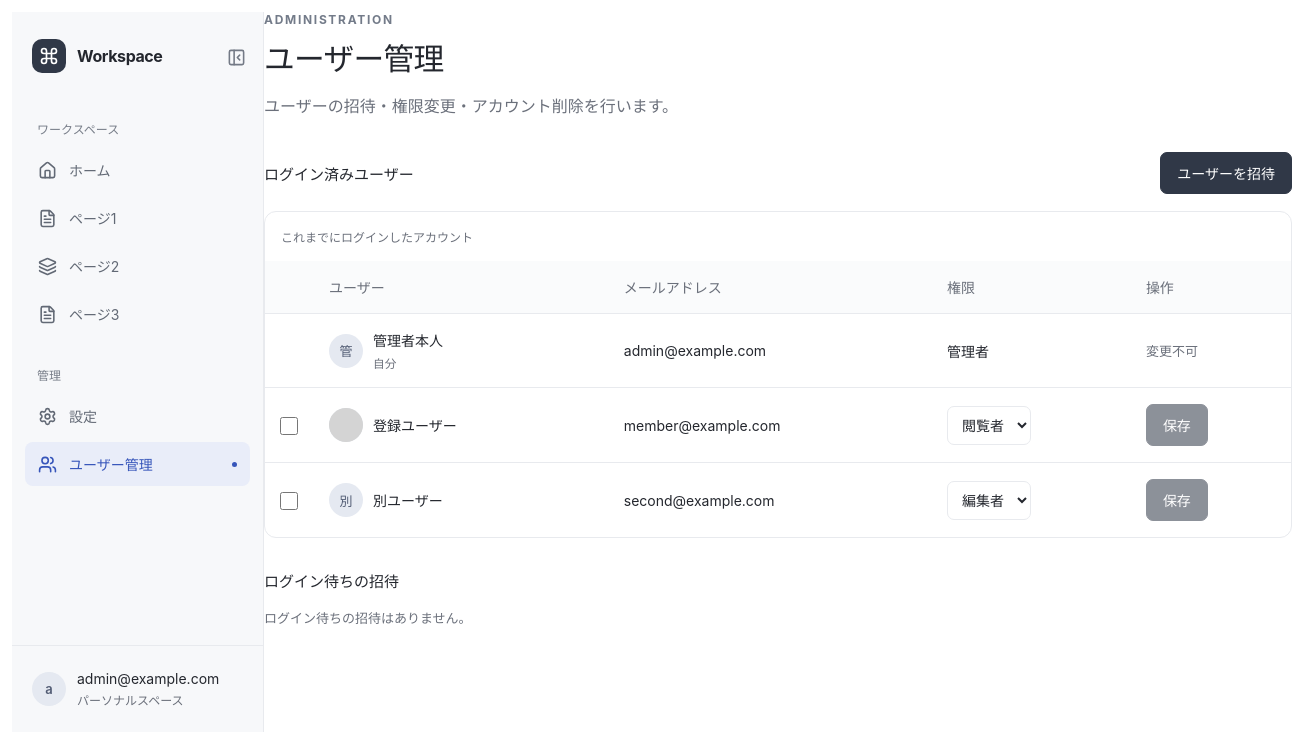
it: 管理者専用ユーザー管理 › 左端のチェックで複数選択し、表の外のボタンから一括削除できる
expect the button "選択したアカウントを削除" is not shown: met
Click the checkbox named "member@example.comを選択" at (289, 426), box 280,417 -> 298,435
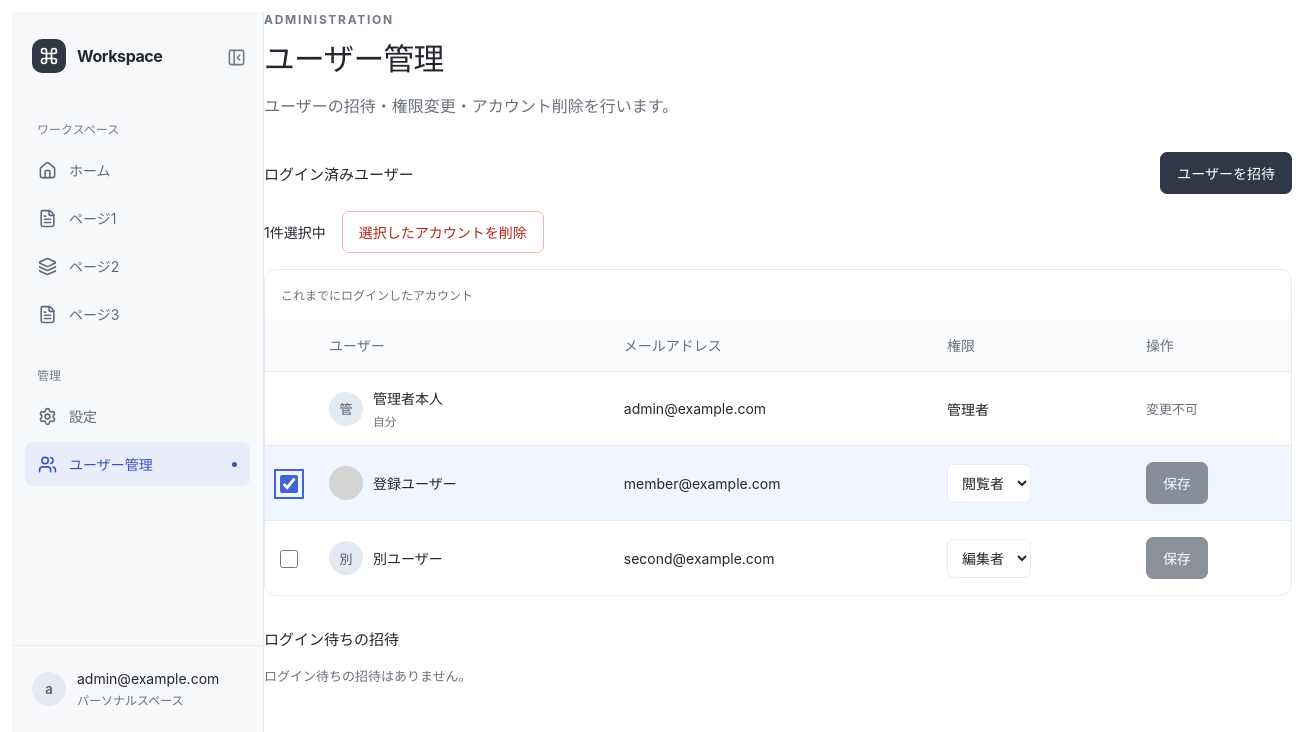
Click the checkbox named "second@example.comを選択" at (289, 559), box 280,550 -> 298,568
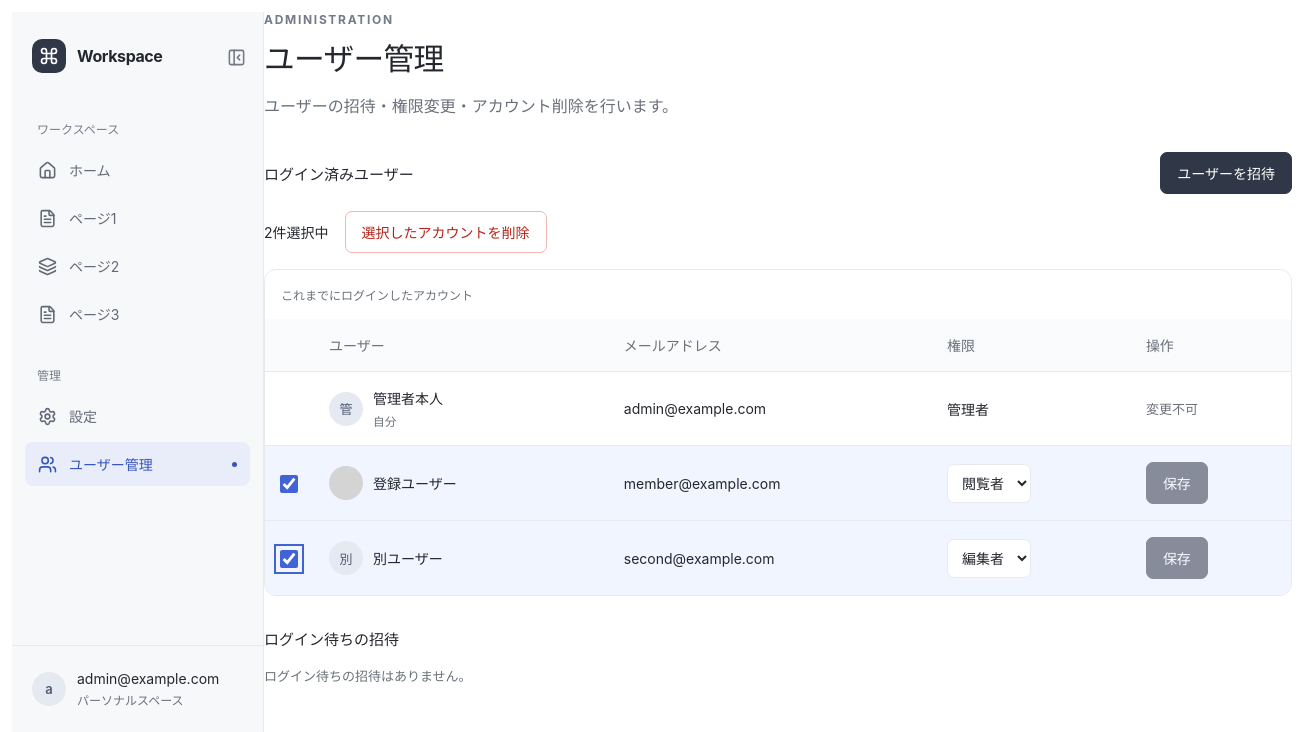
expect the text "2件選択中" is shown: met, box 264,222 -> 328,242
Click the button "選択したアカウントを削除" at (446, 232), box 344,211 -> 546,253
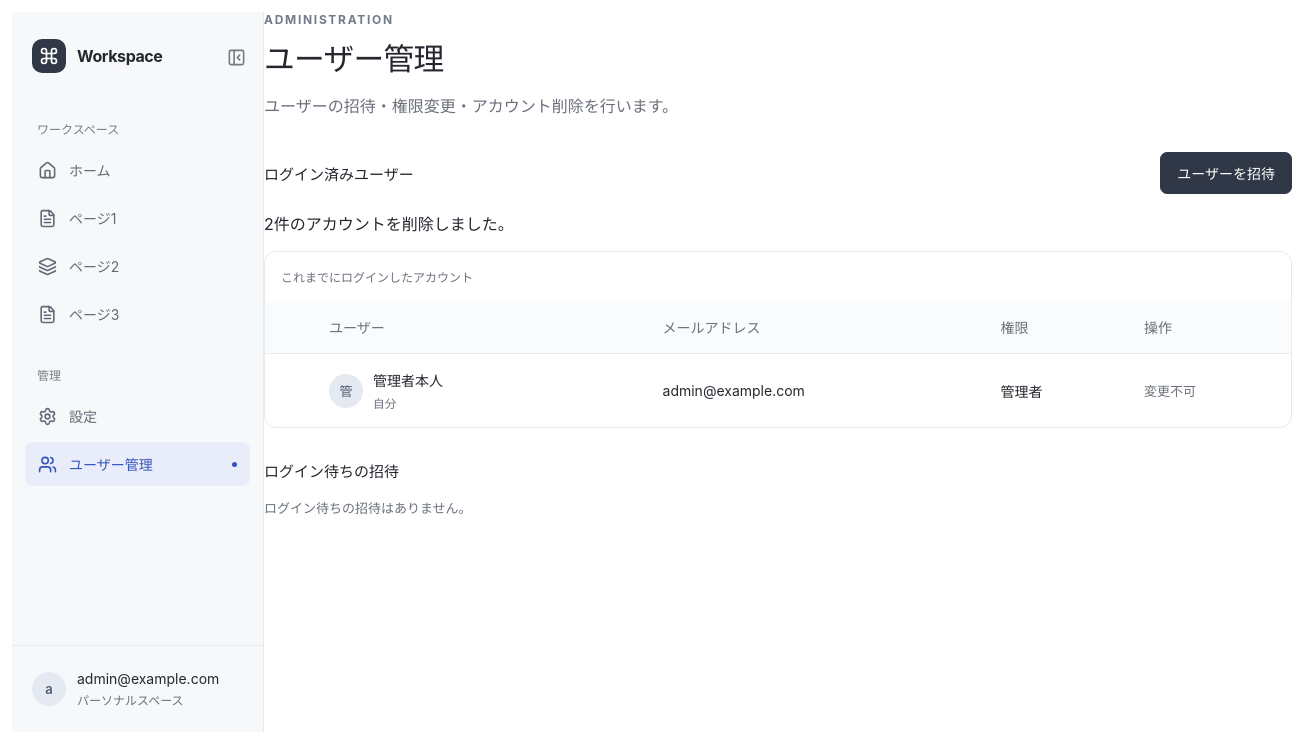
expect the text "2件のアカウントを削除しました。" is shown: met, box 264,214 -> 514,234
expect the text "member@example.com" is gone: met
expect the text "second@example.com" is gone: met
